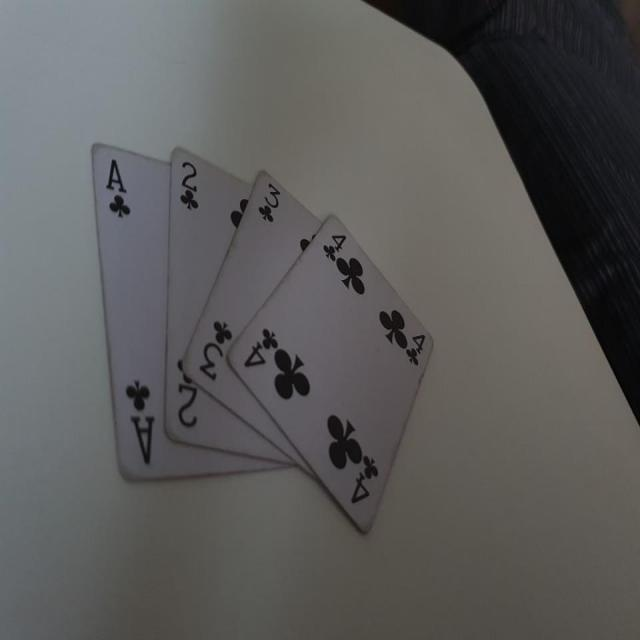2 Trefoils: (166, 147, 291, 466)
3 Trefoils: (182, 172, 324, 484)
4 Trefoils: (226, 212, 435, 538)
A Trefoils: (89, 141, 292, 482)
